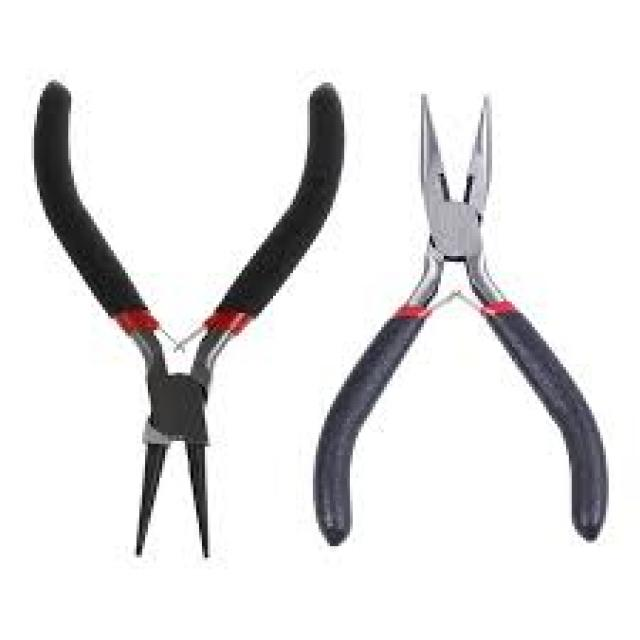Pliers: (23, 75, 355, 573), (302, 85, 618, 553)
